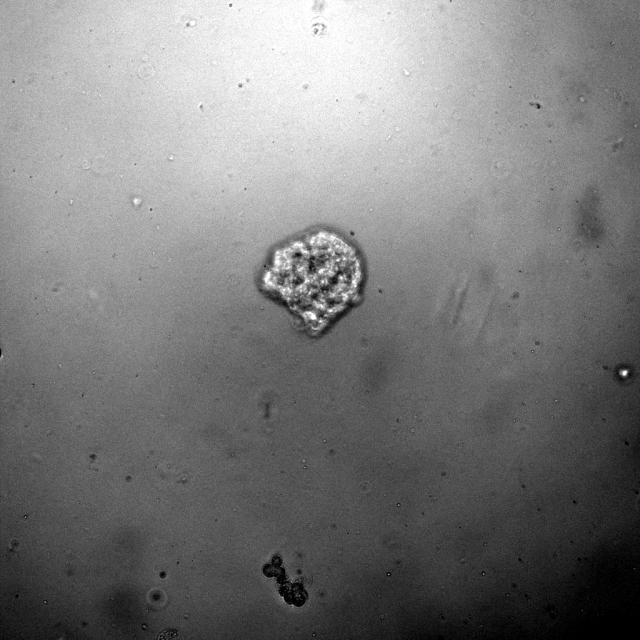organoid: (258, 228, 364, 337), (262, 555, 308, 607)
